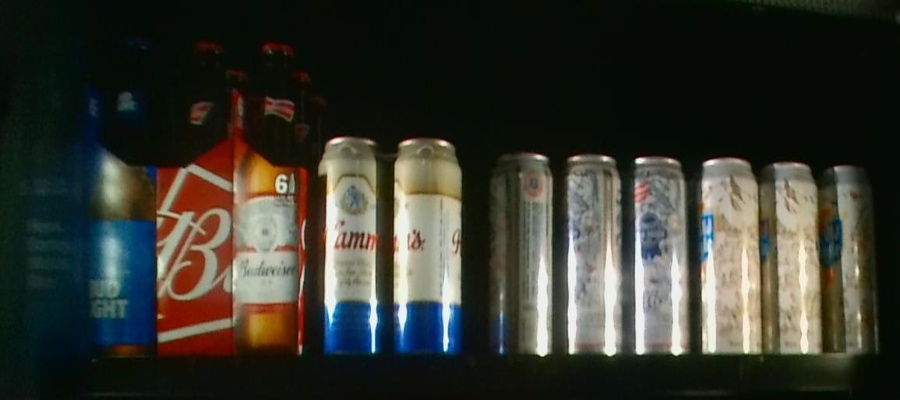bottle: (159, 40, 309, 358), (18, 34, 156, 355), (482, 150, 690, 355), (694, 152, 877, 353), (312, 131, 465, 354)
